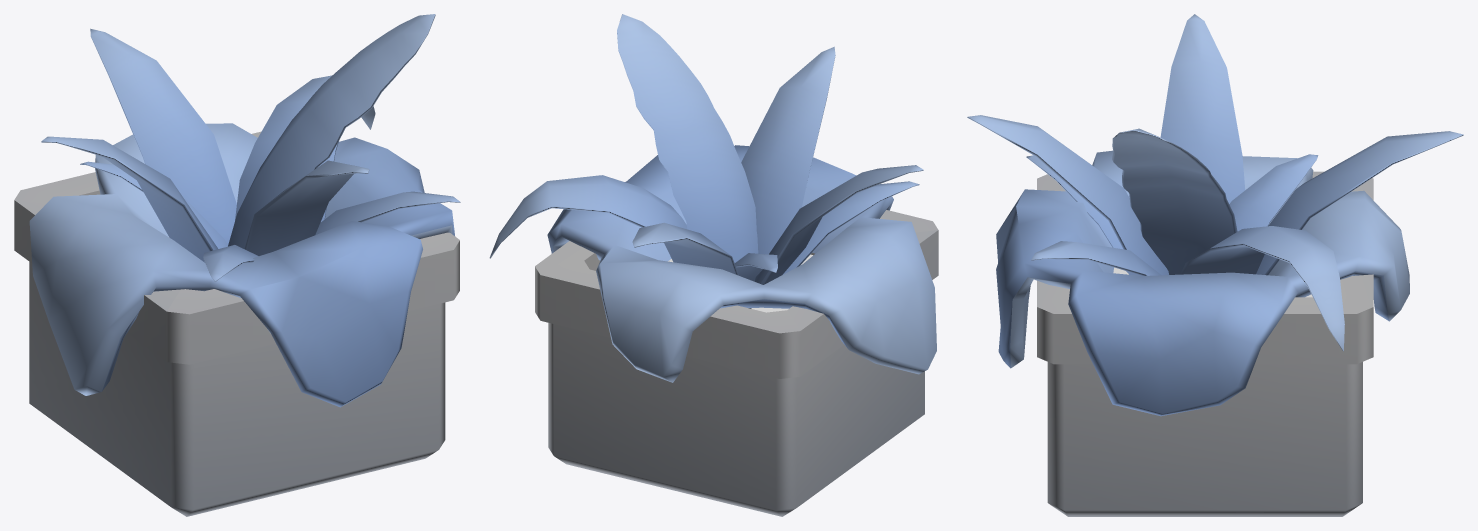
Rendered from lehtikasvi.fbx.
The picture shows the model from 3 angles, left to right: view 1: azimuth 30°, elevation 25°; view 2: azimuth 150°, elevation 25°; view 3: azimuth 270°, elevation 25°; orthographic projection. The views are drawn at different scales.
Parts seen in each view (by area): view 1: lehti_istutus; view 2: lehti_istutus; view 3: lehti_istutus.
Part boxes in pixels (x1,y1,x2,y2): lehti_istutus: (14, 14, 460, 516); lehti_istutus: (489, 14, 938, 516); lehti_istutus: (967, 14, 1463, 516).
Bounding box in the file's own units: 12.78 × 12.37 × 13.64.
